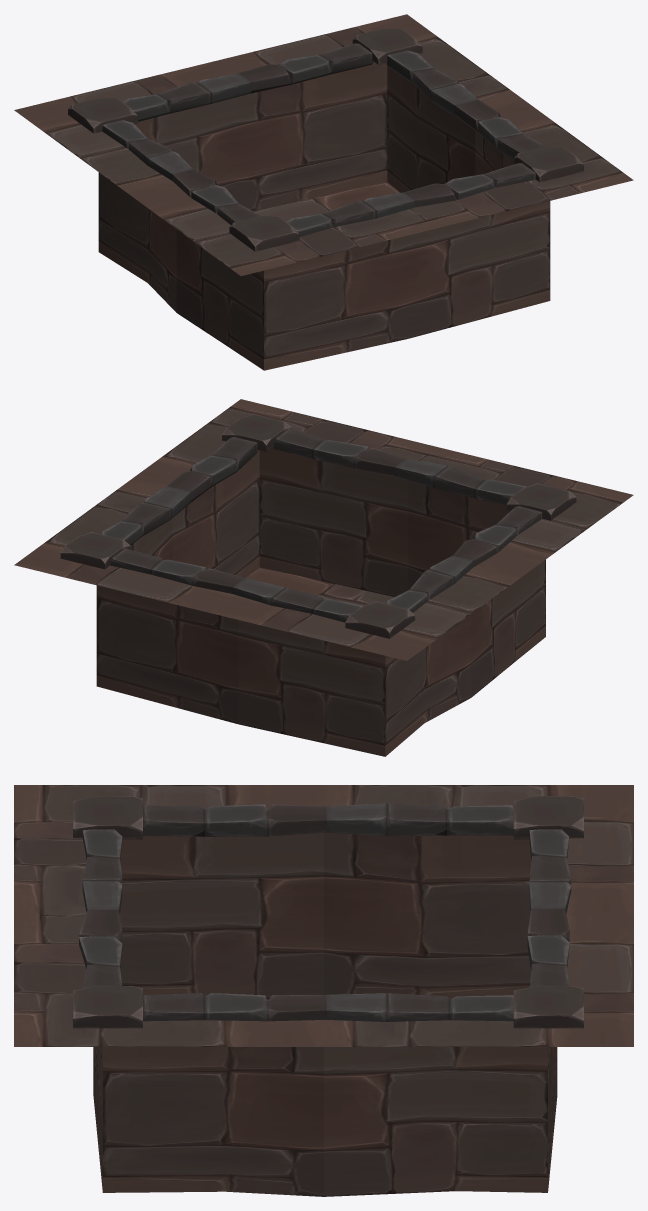
The model's file is A_CA_GEN_Pool_01.fbx.
The picture shows the model from 3 angles, top to bottom: view 1: azimuth 30°, elevation 25°; view 2: azimuth 150°, elevation 25°; view 3: azimuth 270°, elevation 25°; orthographic projection. The views are drawn at different scales.
Visible parts, largest first — view 1: A_CA_GEN_Pool_01; view 2: A_CA_GEN_Pool_01; view 3: A_CA_GEN_Pool_01.
Boxes of the visible parts, box(x1,y1,x2,y2) form: A_CA_GEN_Pool_01: box(14, 14, 633, 370); A_CA_GEN_Pool_01: box(14, 399, 633, 756); A_CA_GEN_Pool_01: box(14, 785, 633, 1196).
Bounding box in the file's own units: 1400 × 480 × 1400.
2 materials, 2 textured.
